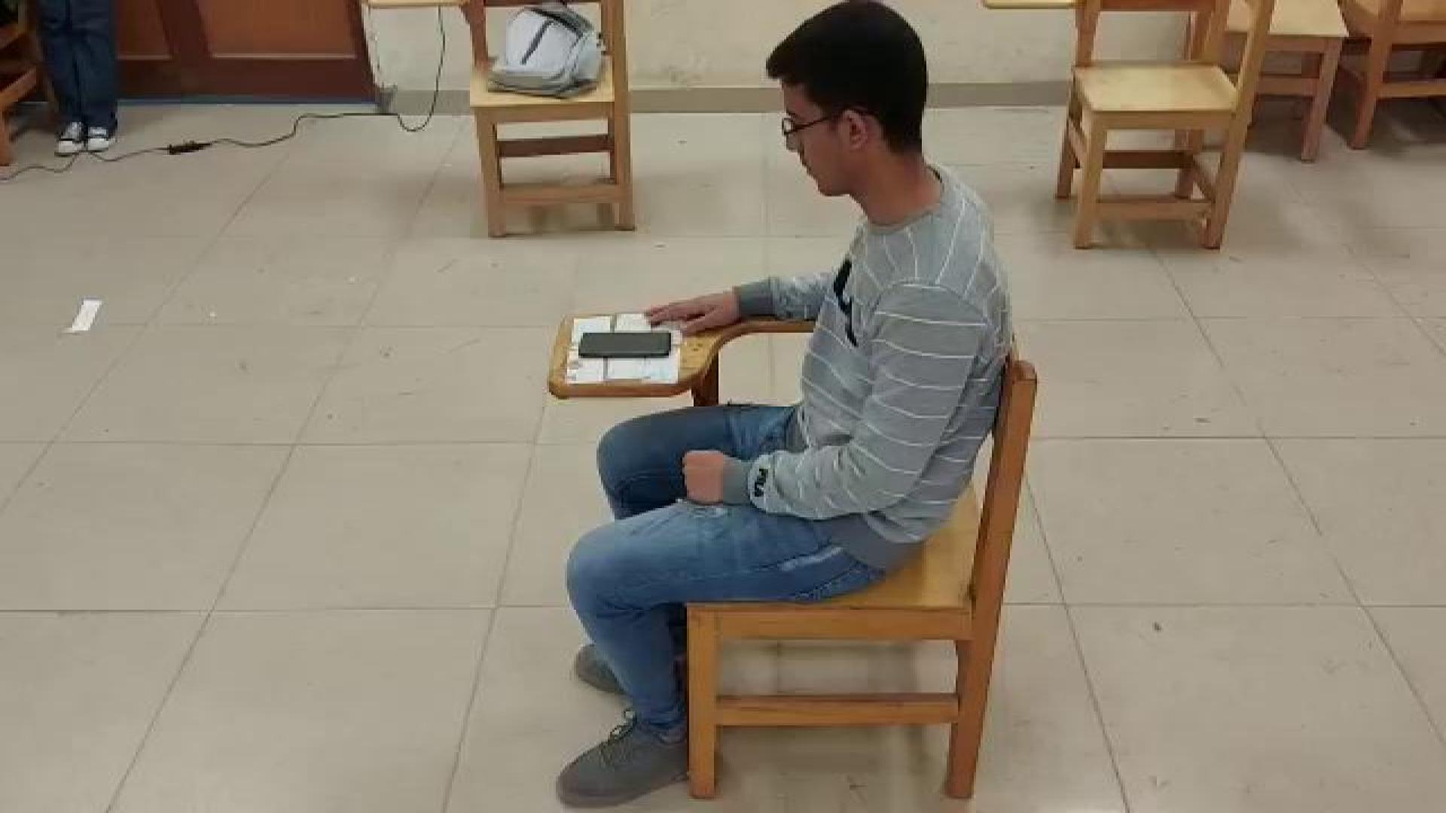phone: (581, 332, 671, 354)
